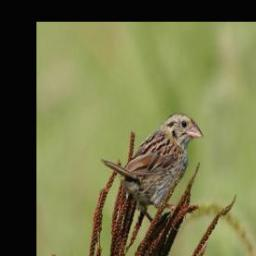Sparrow: (100, 111, 206, 228)
